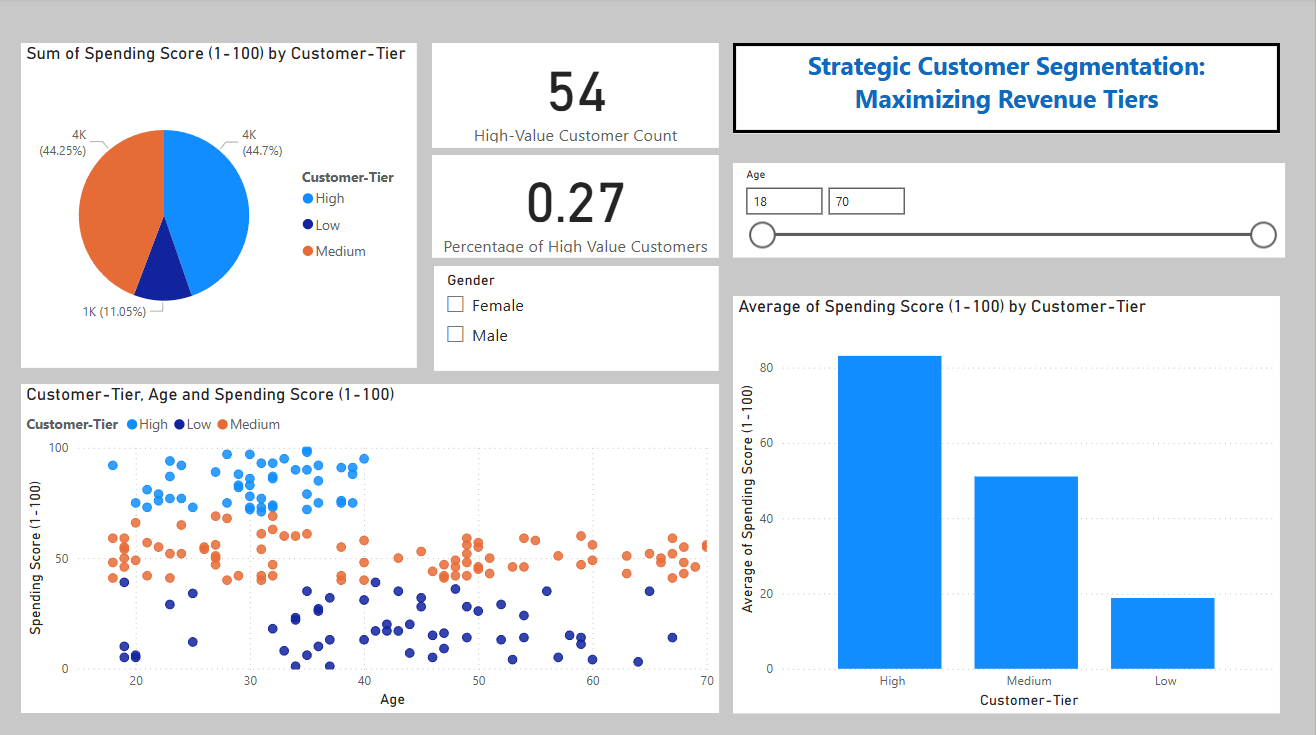

What the dashboard file says about the page in this screenshot:
{"tool":"powerbi","page":{"name":"Page 1","canvas":[1280,720],"ordinal":0},"visuals":[{"type":"card","fields":{"Values":["Mall_Customers.High-Value Count"]},"box":[421.2,43.8,279.1,102.1],"z":0},{"type":"card","fields":{"Values":["Mall_Customers.Percentage of High Value Customers"]},"box":[421.2,152.7,279.1,100.2],"z":1000},{"type":"columnChart","fields":{"Category":["Mall_Customers.Customer-Tier"],"Y":["Avg(Mall_Customers.Spending Score (1-100))"]},"box":[713.9,289.8,532,405.6],"z":2000},{"type":"scatterChart","fields":{"X":["Mall_Customers.Age"],"Y":["Mall_Customers.Spending Score (1-100)"],"Series":["Mall_Customers.Customer-Tier"]},"box":[21.4,375.4,678.9,320],"z":3000},{"type":"slicer","fields":{"Values":["Mall_Customers.Gender"]},"box":[423.1,260.7,277.2,102.1],"z":4000},{"type":"slicer","fields":{"Values":["Mall_Customers.Age"]},"box":[713.9,160.5,536.9,92.4],"z":5000},{"type":"textbox","box":[713.9,43.8,532,87.5],"z":6000},{"type":"pieChart","fields":{"Series":["Mall_Customers.Customer-Tier"],"Y":["Sum(Mall_Customers.Spending Score (1-100))"]},"box":[21.4,43.8,385.2,316.1],"z":7000},{"type":"shape","box":[713.9,43.8,532,87.5],"z":7001}]}

Visuals, with their boxes in screenshot pixels (x1, y1, x2, y2), scaled from the page's 1280x720 canvas onto the 1316x735 screenshot:
card - Mall_Customers.High-Value Count: 433, 45, 720, 149
card - Mall_Customers.Percentage of High Value Customers: 433, 156, 720, 258
columnChart - Mall_Customers.Customer-Tier x Avg(Mall_Customers.Spending Score (1-100)): 734, 296, 1281, 710
scatterChart - Mall_Customers.Age x Mall_Customers.Spending Score (1-100): 22, 383, 720, 710
slicer - Mall_Customers.Gender: 435, 266, 720, 370
slicer - Mall_Customers.Age: 734, 164, 1286, 258
textbox: 734, 45, 1281, 134
pieChart - Mall_Customers.Customer-Tier x Sum(Mall_Customers.Spending Score (1-100)): 22, 45, 418, 367
shape: 734, 45, 1281, 134
